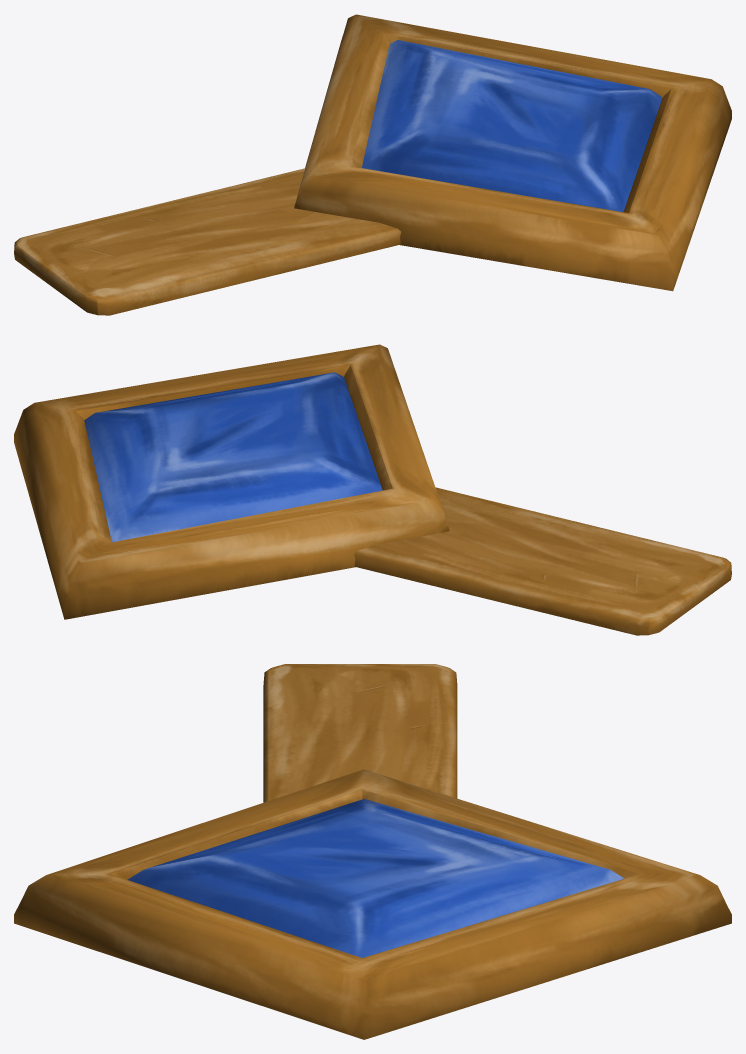
The model's file is essenceGem.fbx.
3 views of the same model, one above another, from view 1: azimuth 30°, elevation 25°; view 2: azimuth 150°, elevation 25°; view 3: azimuth 270°, elevation 25° (orthographic). The views are drawn at different scales.
Visible parts, largest first — view 1: Hedra001, Object; view 2: Hedra001, Object; view 3: Hedra001, Object.
Part boxes in pixels (x1=…): Hedra001: x1=14, y1=14, x2=731, y2=315; Object: x1=362, y1=40, x2=662, y2=212; Hedra001: x1=14, y1=344, x2=731, y2=635; Object: x1=84, y1=372, x2=382, y2=542; Hedra001: x1=14, y1=664, x2=731, y2=1039; Object: x1=127, y1=799, x2=624, y2=957.
Bounding box in the file's own units: 8.46 × 0.7347 × 7.12.
Materials: 1 (1 with a texture image).
